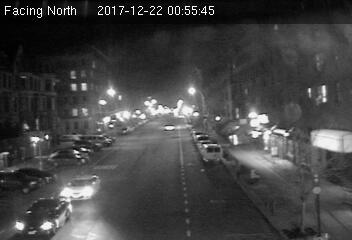car: (12, 193, 73, 235), (60, 174, 101, 200)
truck: (202, 143, 222, 162)
